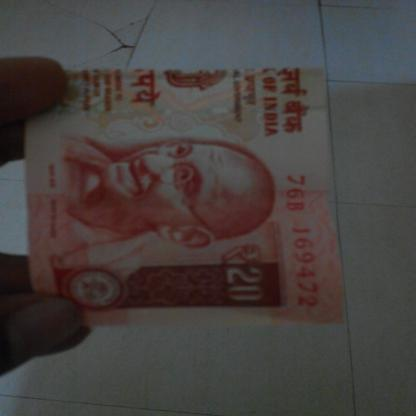Old20Front: (26, 67, 343, 326)
